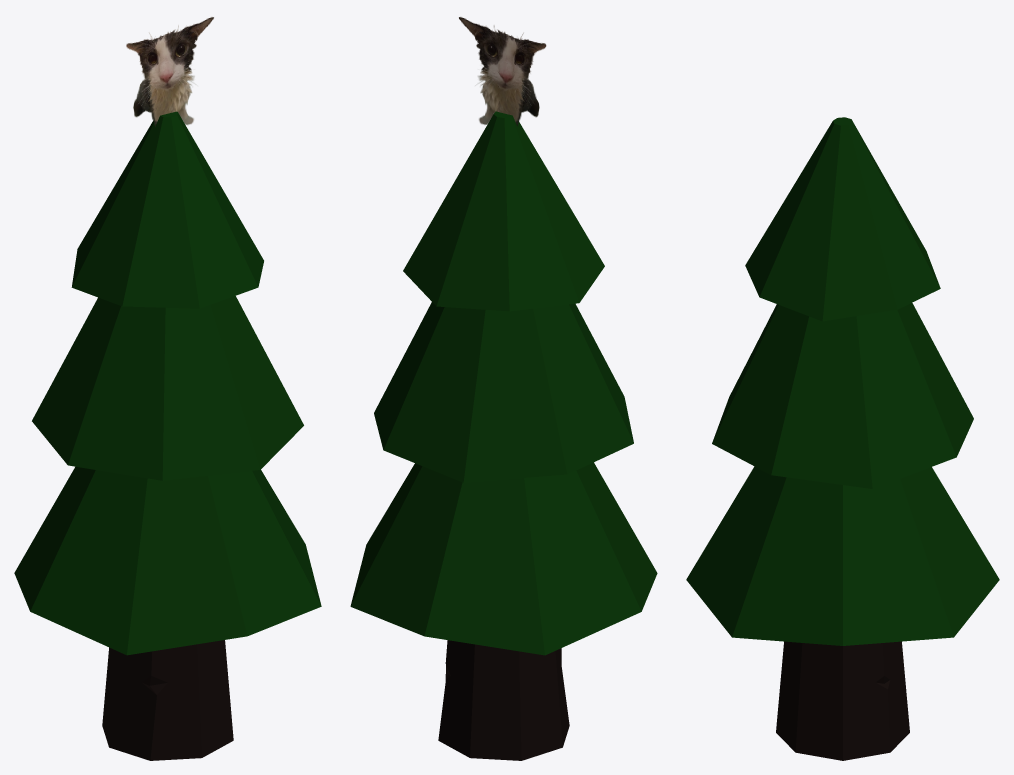
The model's file is bybsmaan123456.glb.
3 views of the same model, side by side, from view 1: azimuth 30°, elevation 25°; view 2: azimuth 150°, elevation 25°; view 3: azimuth 270°, elevation 25° (orthographic).
Parts seen in each view (by area): view 1: node_id11, node_id8, mesh_id42; view 2: node_id11, node_id8, mesh_id42; view 3: node_id11, node_id8.
Boxes of the visible parts, box(x1,y1,x2,y2) form: node_id11: box(14, 111, 321, 655); node_id8: box(102, 640, 233, 760); mesh_id42: box(126, 17, 213, 126); node_id11: box(350, 111, 657, 655); node_id8: box(438, 640, 569, 760); mesh_id42: box(459, 17, 546, 126); node_id11: box(686, 117, 999, 645); node_id8: box(776, 641, 909, 760).
Bounding box in the file's own units: 0.2382 × 0.5849 × 0.2382.
3 materials, 3 textured.
